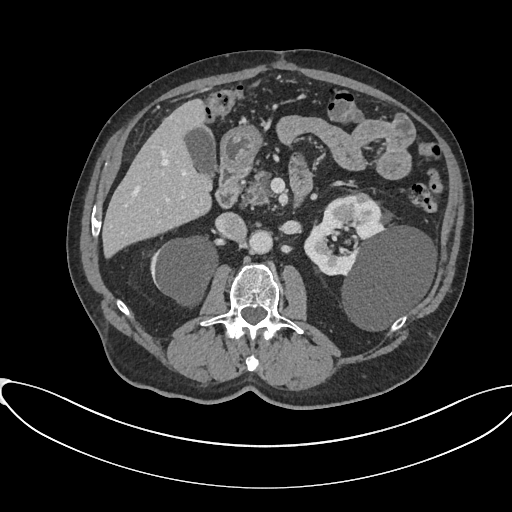Lesion: (356, 190, 371, 204)
